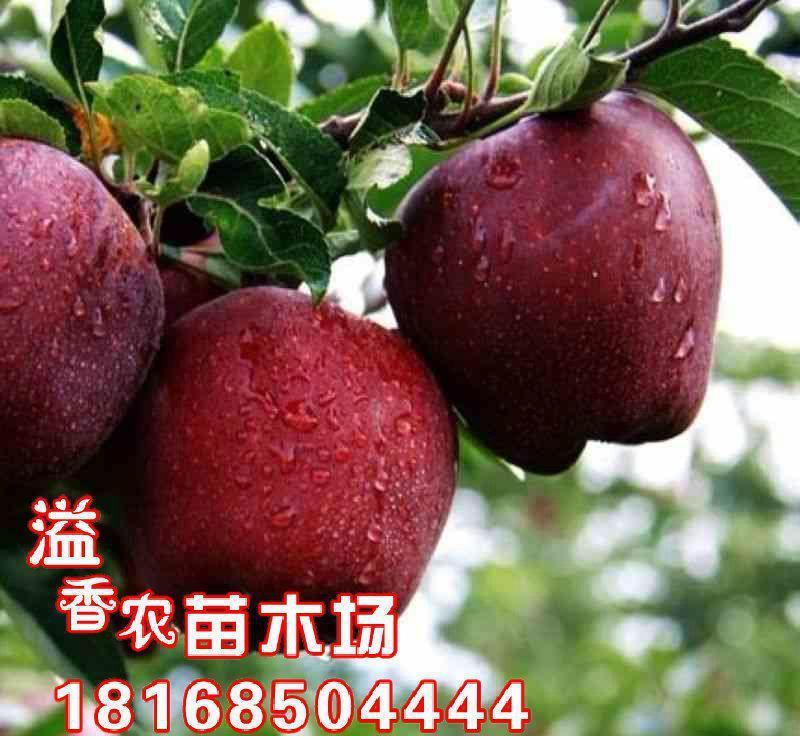apple: (369, 99, 723, 469), (129, 289, 454, 603), (1, 131, 164, 498)
